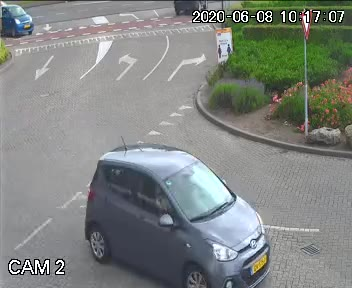car: (73, 139, 277, 288), (0, 3, 47, 41)
